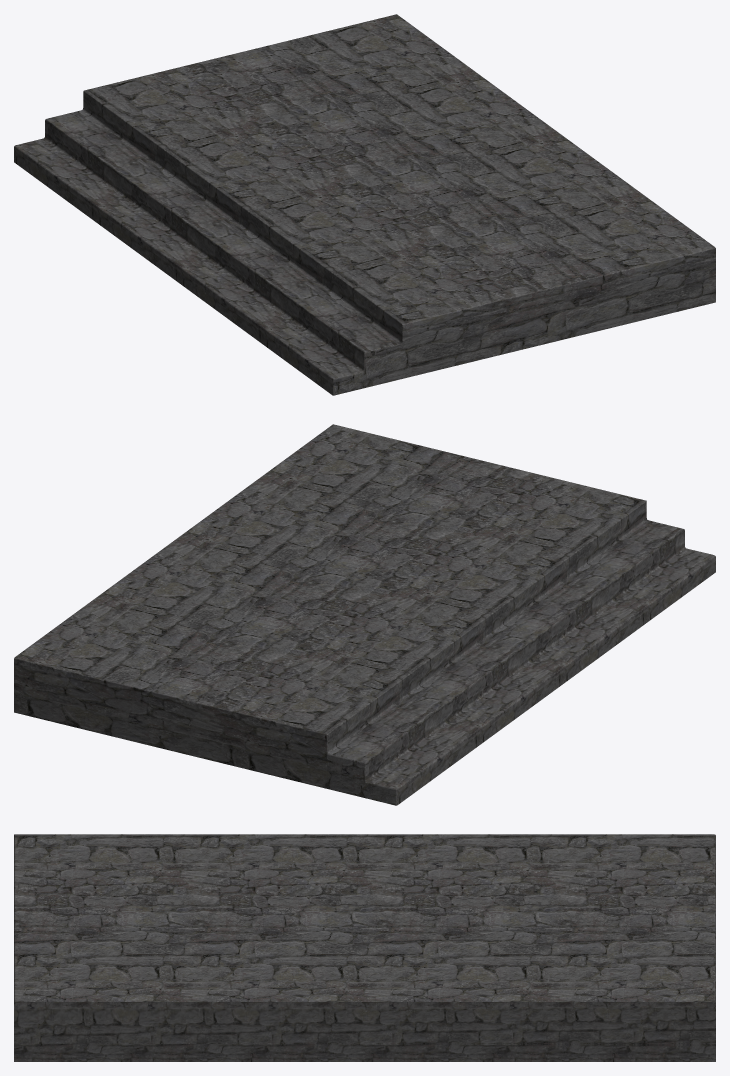
Rendered from SM_Church12.fbx.
3 renders of one model, top to bottom at view 1: azimuth 30°, elevation 25°; view 2: azimuth 150°, elevation 25°; view 3: azimuth 270°, elevation 25°, orthographic. The views are drawn at different scales.
Visible parts, largest first — view 1: SM_Church12_LOD0; view 2: SM_Church12_LOD0; view 3: SM_Church12_LOD0.
Boxes of the visible parts, x1,y1,x2,y2 form: SM_Church12_LOD0: [14, 14, 715, 395]; SM_Church12_LOD0: [14, 424, 715, 805]; SM_Church12_LOD0: [14, 834, 715, 1061].
Size of the model in its own units: 529 by 765 by 72.09.
